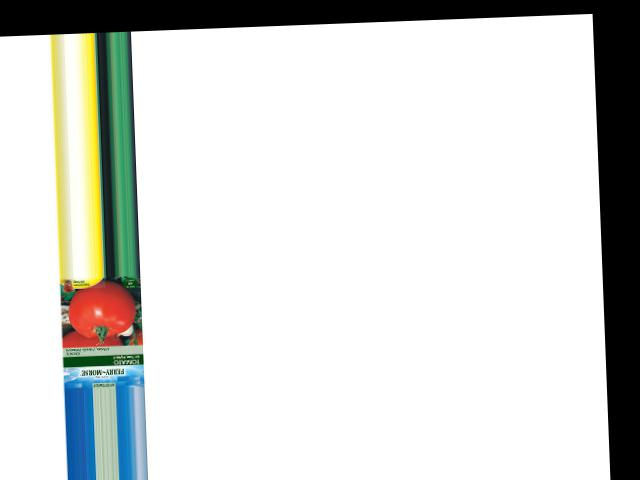tomato: (67, 279, 136, 338)
